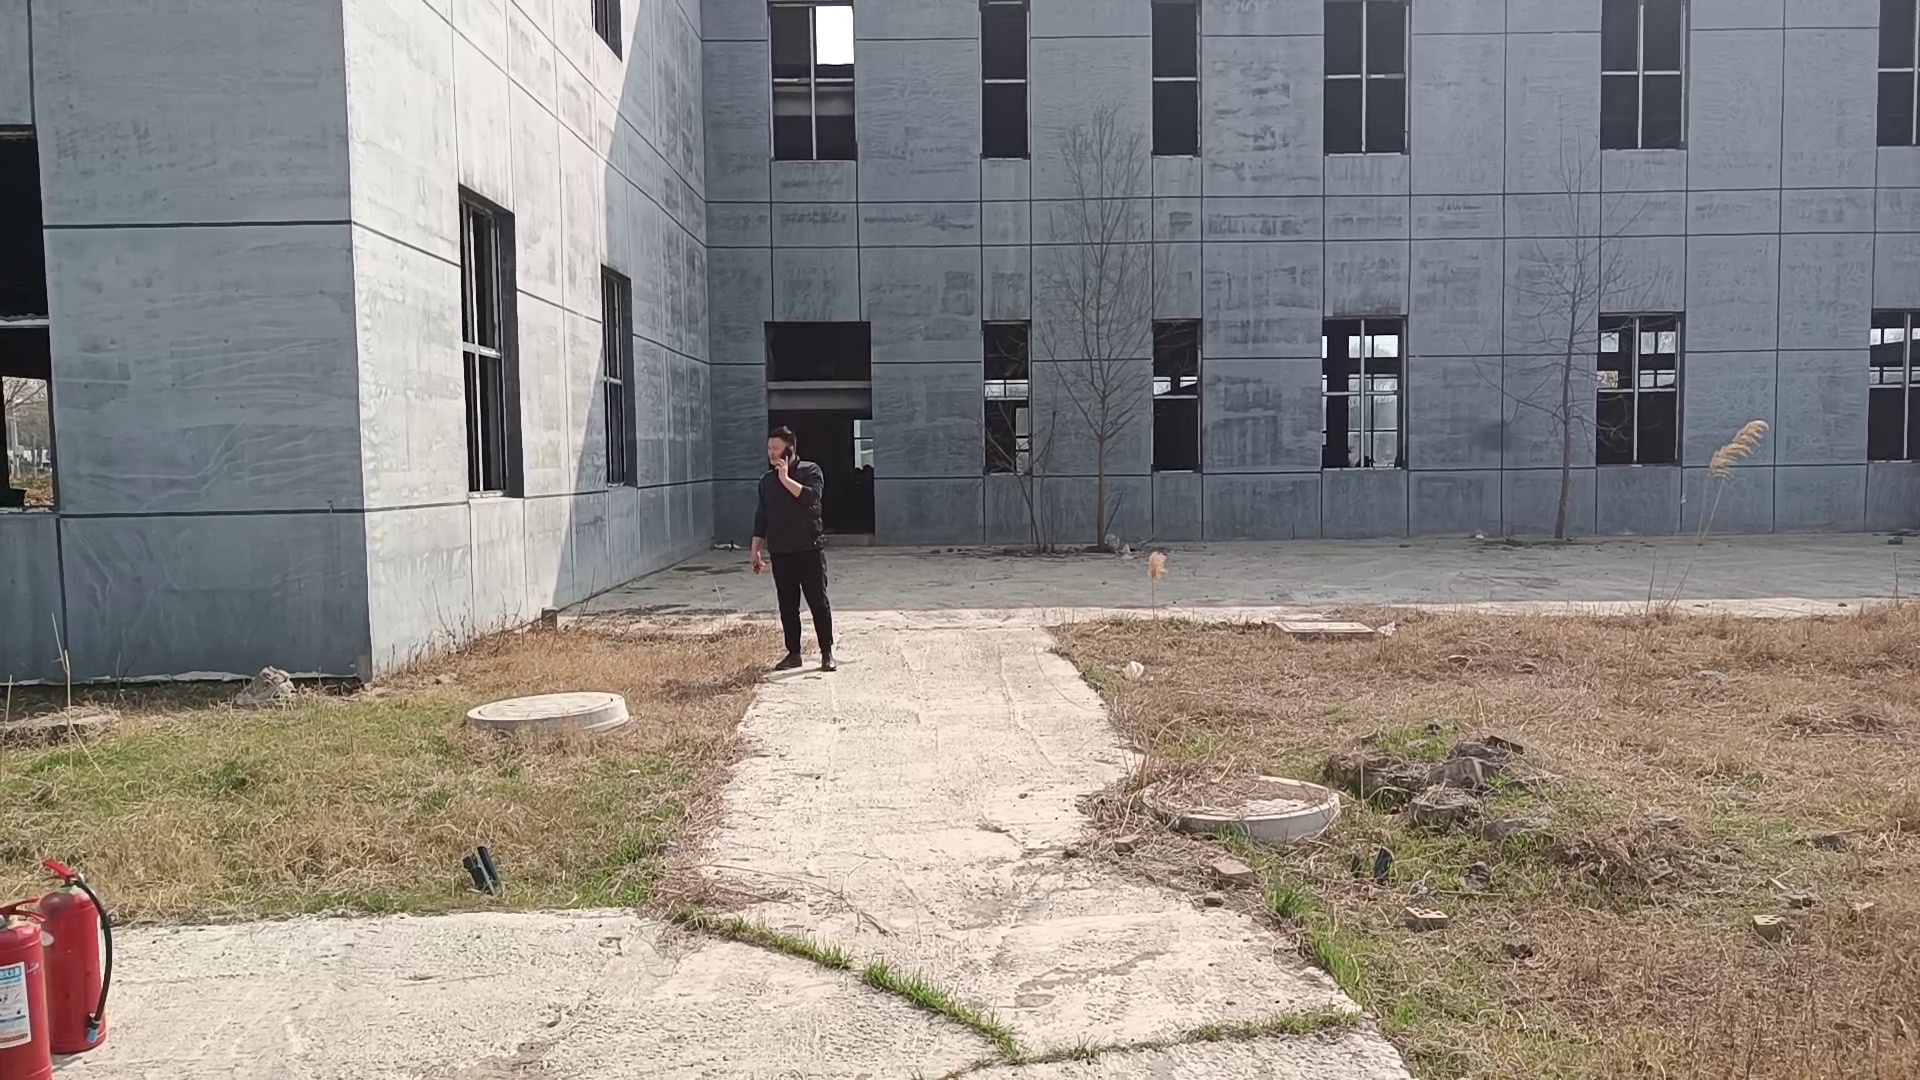phone: (756, 423, 796, 475)
